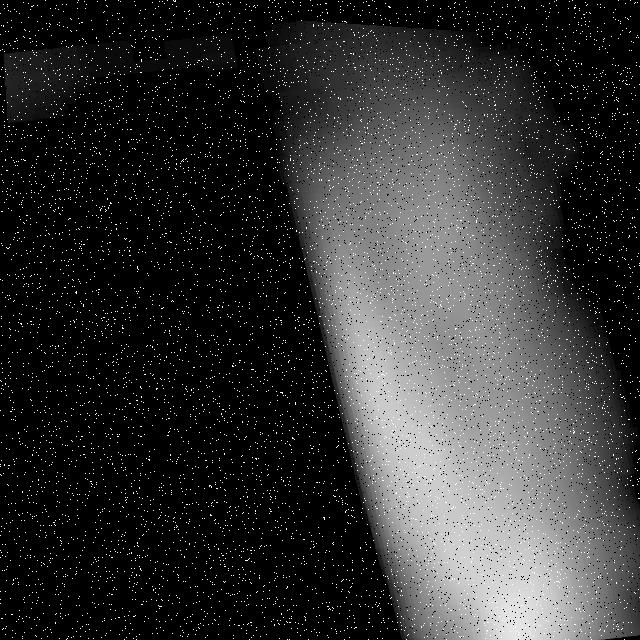person: (248, 38, 640, 640)
